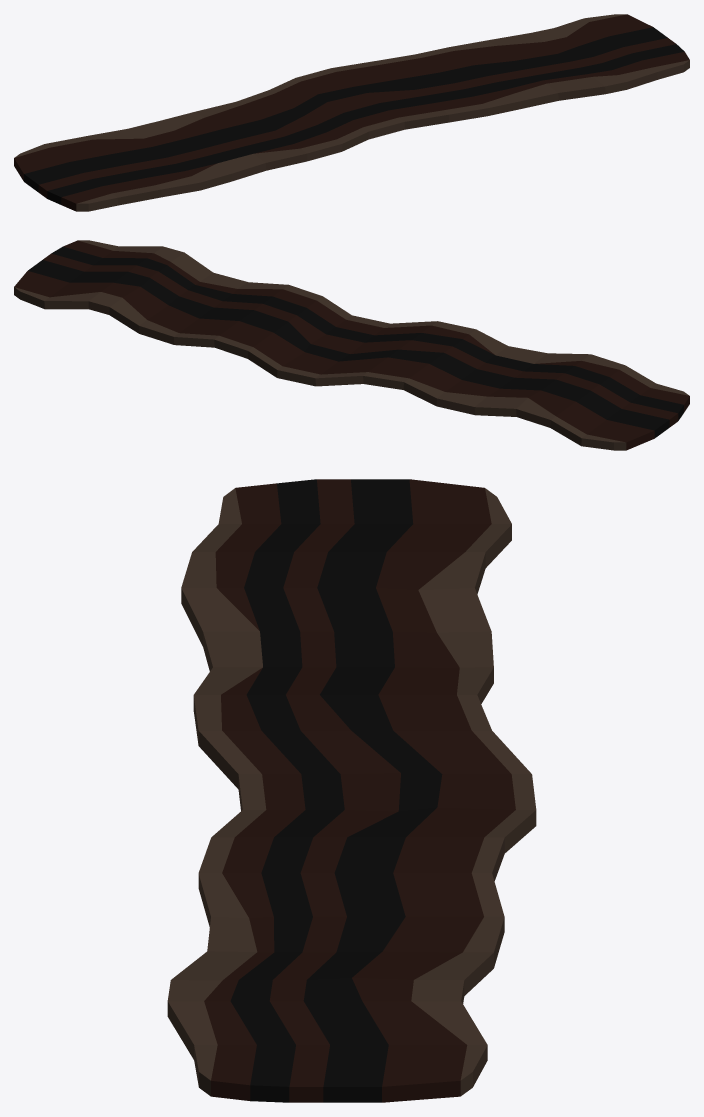
The model's file is Bacon_Burned.obj.
3 views of the same model, one above another, from view 1: azimuth 30°, elevation 25°; view 2: azimuth 150°, elevation 25°; view 3: azimuth 270°, elevation 25° (orthographic). The views are drawn at different scales.
Visible parts, largest first — view 1: Bacon_Burned_Plane.009; view 2: Bacon_Burned_Plane.009; view 3: Bacon_Burned_Plane.009.
Boxes of the visible parts, x1=… form: Bacon_Burned_Plane.009: x1=14, y1=14, x2=689, y2=211; Bacon_Burned_Plane.009: x1=14, y1=240, x2=689, y2=450; Bacon_Burned_Plane.009: x1=167, y1=479, x2=536, y2=1102.
Bounding box in the file's own units: 1.16 × 0.0213 × 0.2968.
